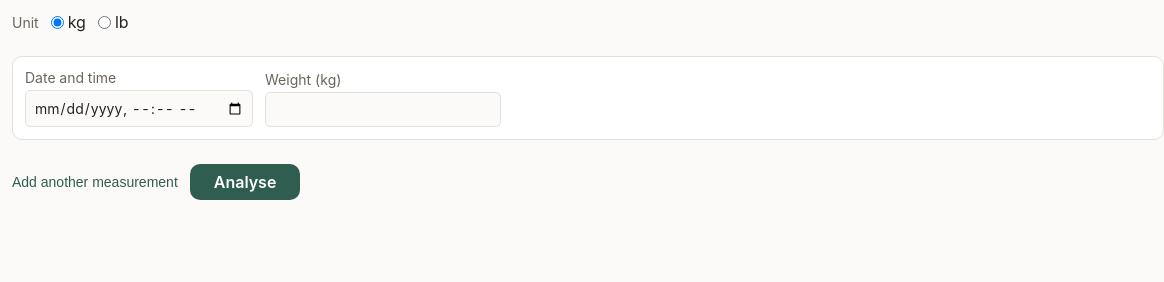
Test case: MeasurementForm › rejects submission when every row is blank
What coordinates should you click on to do the following:
click the button "Analyse"
I would click on:
 (245, 182)
Its box is [190,164,300,200].
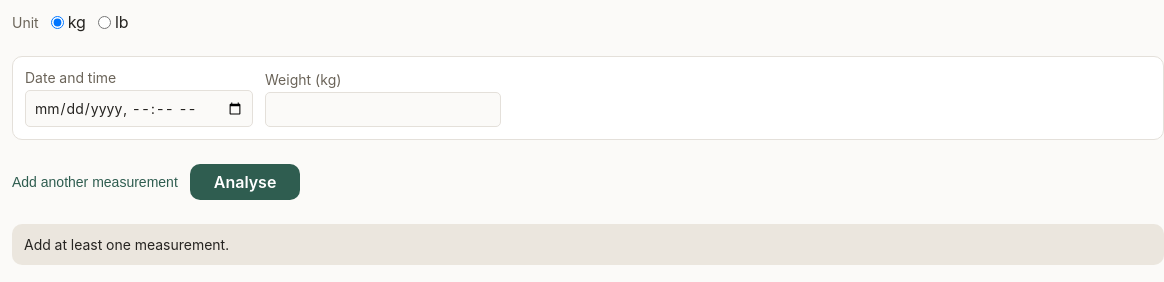
Result: the message reads "Add at least one measurement." at [24,236,229,253]
